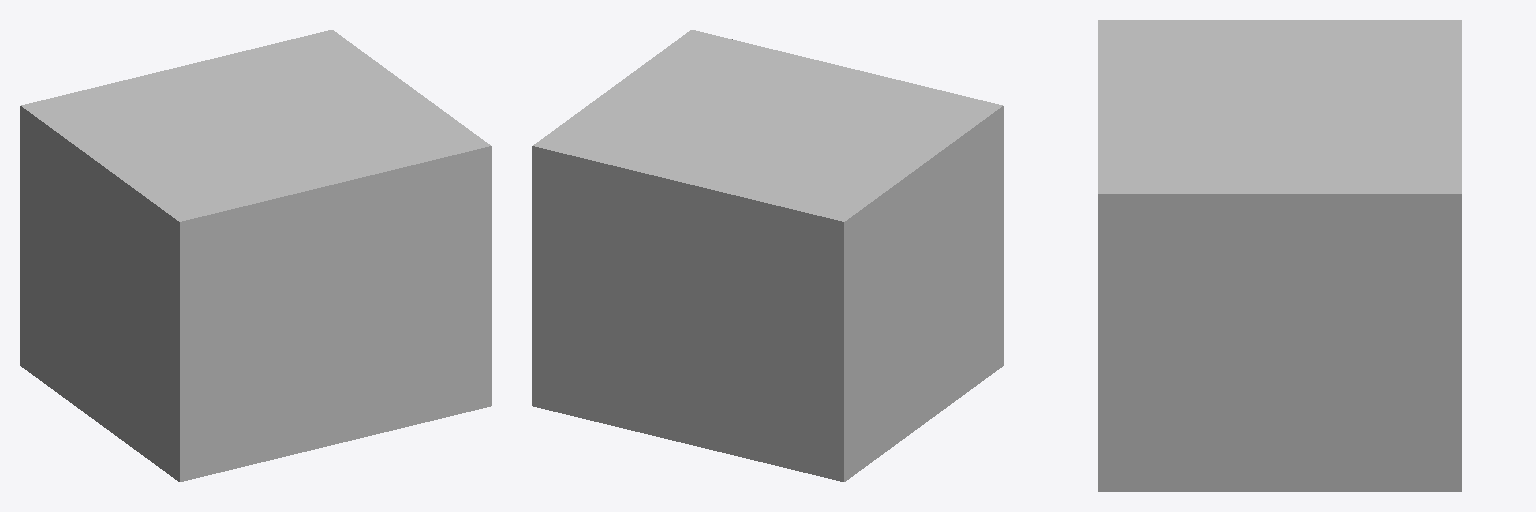
robot.urdf — box.urdf:
<?xml version="1.0" ?>
<robot name="box.urdf">
  <link name="baseLink">
    <contact>
      <lateral_friction value="1.0"/>
      <rolling_friction value="0.0001"/>
      <inertia_scaling value="3.0"/>
    </contact>
    <inertial>
      <origin rpy="0 0 0" xyz="0 0 0"/>
       <mass value="0.1"/>
       <inertia ixx="1" ixy="0" ixz="0" iyy="1" iyz="0" izz="1"/>
    </inertial>
    <visual>
      <origin rpy="0 0 0" xyz="0 0 0"/>
      <geometry>
        <!-- <box size="0.257 0.22699999999999998 0.205"/> -->
        <mesh filename="box/box.obj" scale="0.257 0.22699999999999998 0.205"/>
      </geometry>
      <material name="white">
        <color rgba="0.8 0.8 0.8 1"/>
      </material>
    </visual>
    <collision>
      <origin rpy="0 0 0" xyz="0 0 0"/>
      <geometry>
        <mesh filename="box/box.obj" scale="0.257 0.22699999999999998 0.205"/>
	 	    <!-- <box size="0.257 0.22699999999999998 0.205"/> -->
      </geometry>
    </collision>
  </link>
</robot>

--- Render facts (derived) ---
The picture shows the robot from 3 angles, left to right: view 1: azimuth 30°, elevation 25°; view 2: azimuth 150°, elevation 25°; view 3: azimuth 270°, elevation 25°; orthographic projection.
Model box.urdf with 1 links and 0 joints (none), rooted at baseLink, posed all joints at 0.
Links seen in each view (by area): view 1: baseLink; view 2: baseLink; view 3: baseLink.
Link boxes in pixels (left/top/right/bottom): baseLink: left=20, top=30, right=491, bottom=481; baseLink: left=532, top=30, right=1003, bottom=481; baseLink: left=1098, top=20, right=1461, bottom=491.
Bounding box of the posed robot: 0.257 × 0.227 × 0.205 m (x, y, z).
1 mesh visuals loaded from 1 distinct referenced files (1 OBJ).
